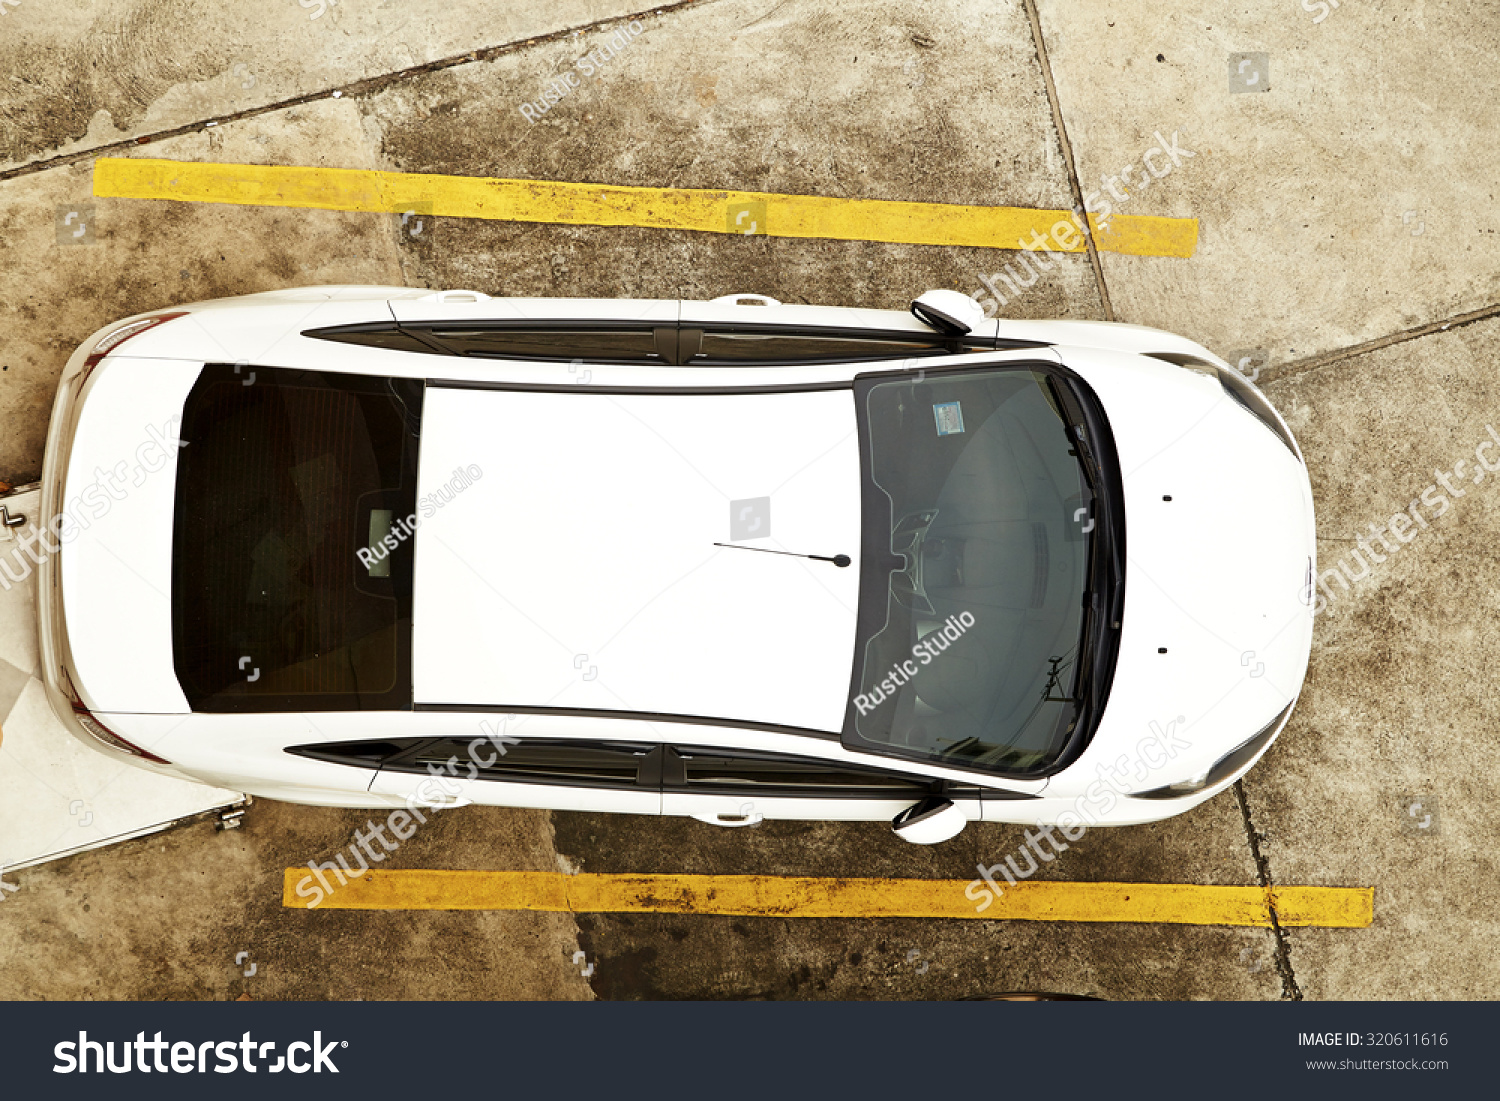Car: (36, 287, 1333, 847)
LaneMark: (80, 150, 1224, 264), (282, 867, 1384, 924)
